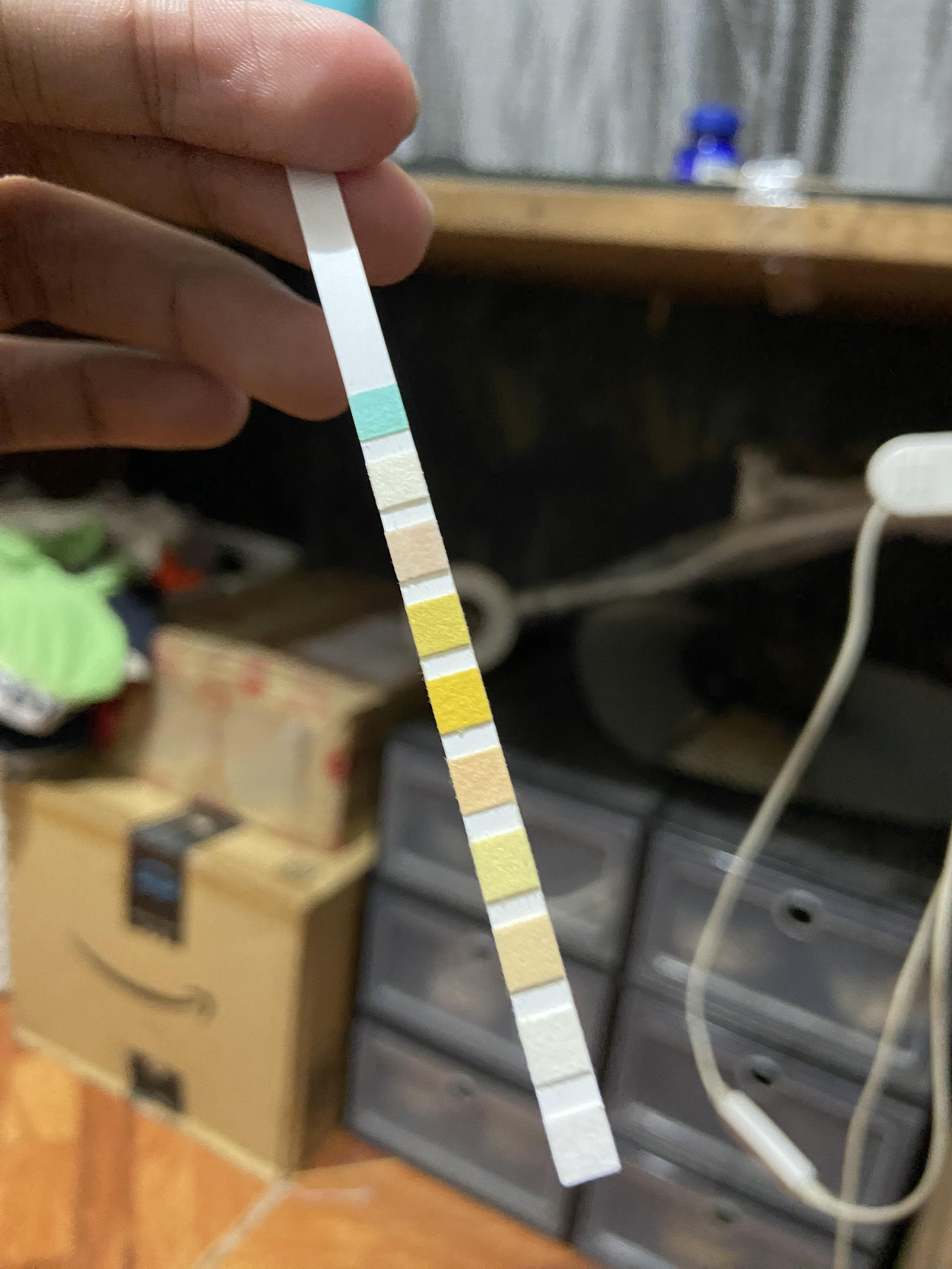Bilirubin: (379, 460, 419, 498)
Blood: (439, 678, 482, 722)
Glucose: (360, 393, 400, 431)
Ketone: (396, 530, 440, 570)
Leukocytes: (556, 1120, 609, 1169)
Nitrite: (529, 1022, 579, 1074)
Protein: (486, 838, 527, 890)
SpGravity: (419, 603, 460, 646)
Urobilinogen: (503, 929, 553, 972)
pH: (460, 758, 506, 803)
strip: (294, 191, 623, 1189)
